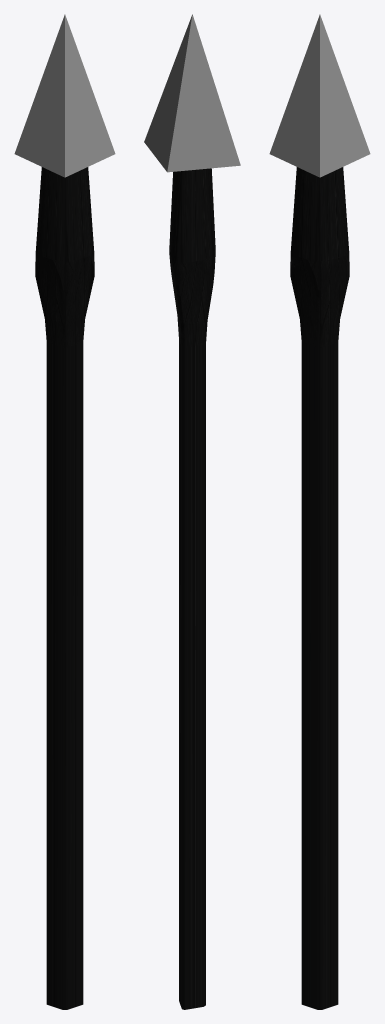
File: trap.FBX
3 renders of one model, left to right at view 1: azimuth 90°, elevation 25°; view 2: azimuth 150°, elevation 25°; view 3: azimuth 270°, elevation 25°, orthographic.
Visible parts, largest first — view 1: Spindle001; view 2: Spindle001; view 3: Spindle001.
Boxes of the visible parts, x1=… form: Spindle001: x1=14, y1=14, x2=115, y2=1009; Spindle001: x1=144, y1=14, x2=240, y2=1009; Spindle001: x1=269, y1=14, x2=370, y2=1009.
Size of the model in its own units: 9.02 by 87.97 by 8.15.
